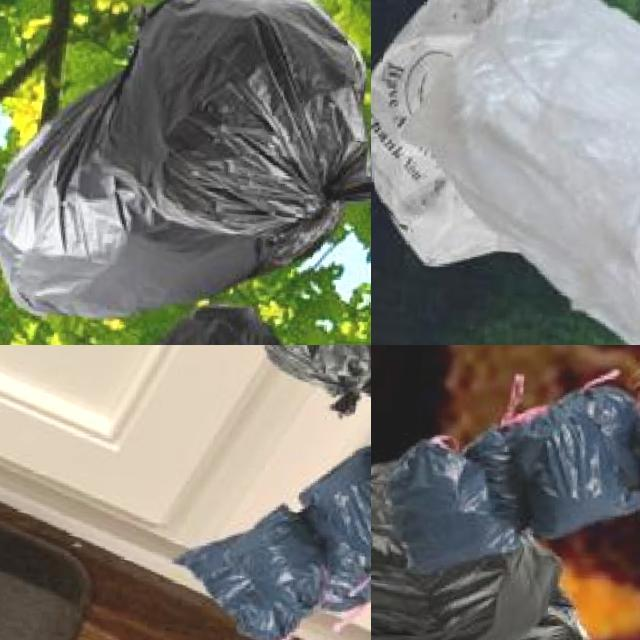waste: (0, 0, 371, 337), (431, 0, 640, 345), (371, 0, 547, 269), (371, 427, 585, 640), (476, 374, 640, 538), (187, 494, 329, 640), (301, 438, 371, 612)
